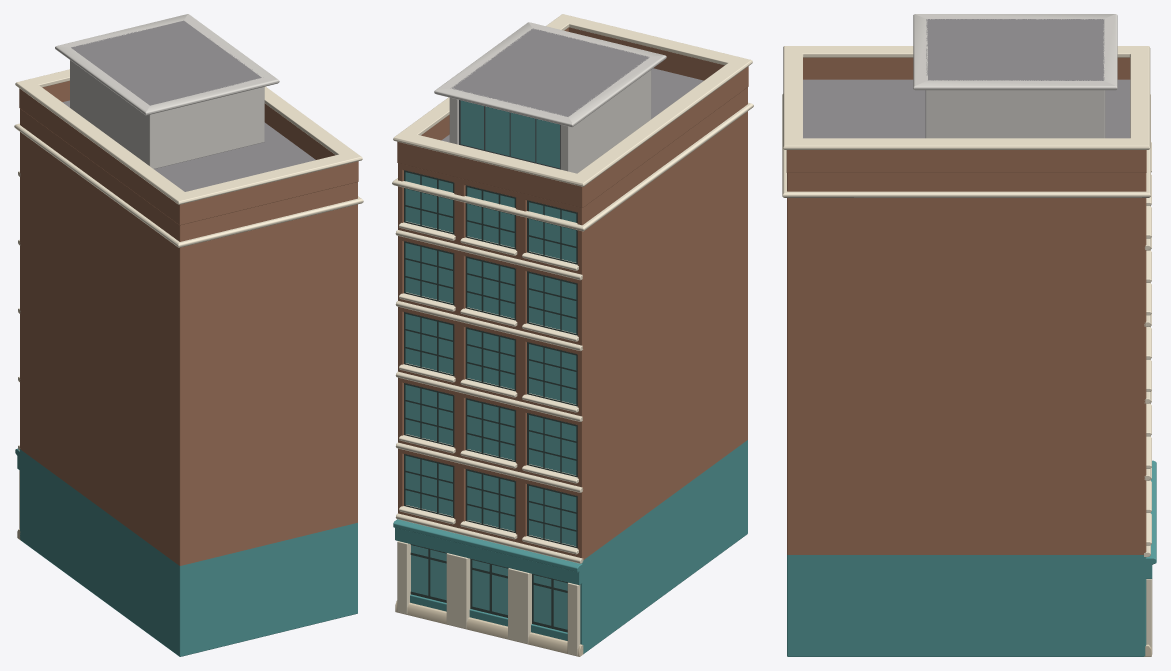
Rendered from far_loft_brown_ph_5.glb.
3 renders of one model, left to right at view 1: azimuth 30°, elevation 25°; view 2: azimuth 150°, elevation 25°; view 3: azimuth 270°, elevation 25°, orthographic. The views are drawn at different scales.
Parts seen in each view (by area): view 1: shell, trim, penthouse; view 2: shell, trim, penthouse, frames, penthouse frames; view 3: shell, trim, penthouse.
Part boxes in pixels (box(x1,y1,x2,y2)): shell: box(20, 100, 357, 656); trim: box(14, 14, 363, 540); penthouse: box(70, 20, 264, 168); shell: box(398, 68, 747, 653); trim: box(392, 14, 753, 656); penthouse: box(449, 28, 651, 173); frames: box(404, 170, 577, 632); penthouse frames: box(459, 100, 560, 169); shell: box(787, 79, 1146, 656); trim: box(782, 14, 1156, 656); penthouse: box(925, 19, 1105, 138).
Size of the model in its own units: 9.36 by 24.02 by 14.58.
